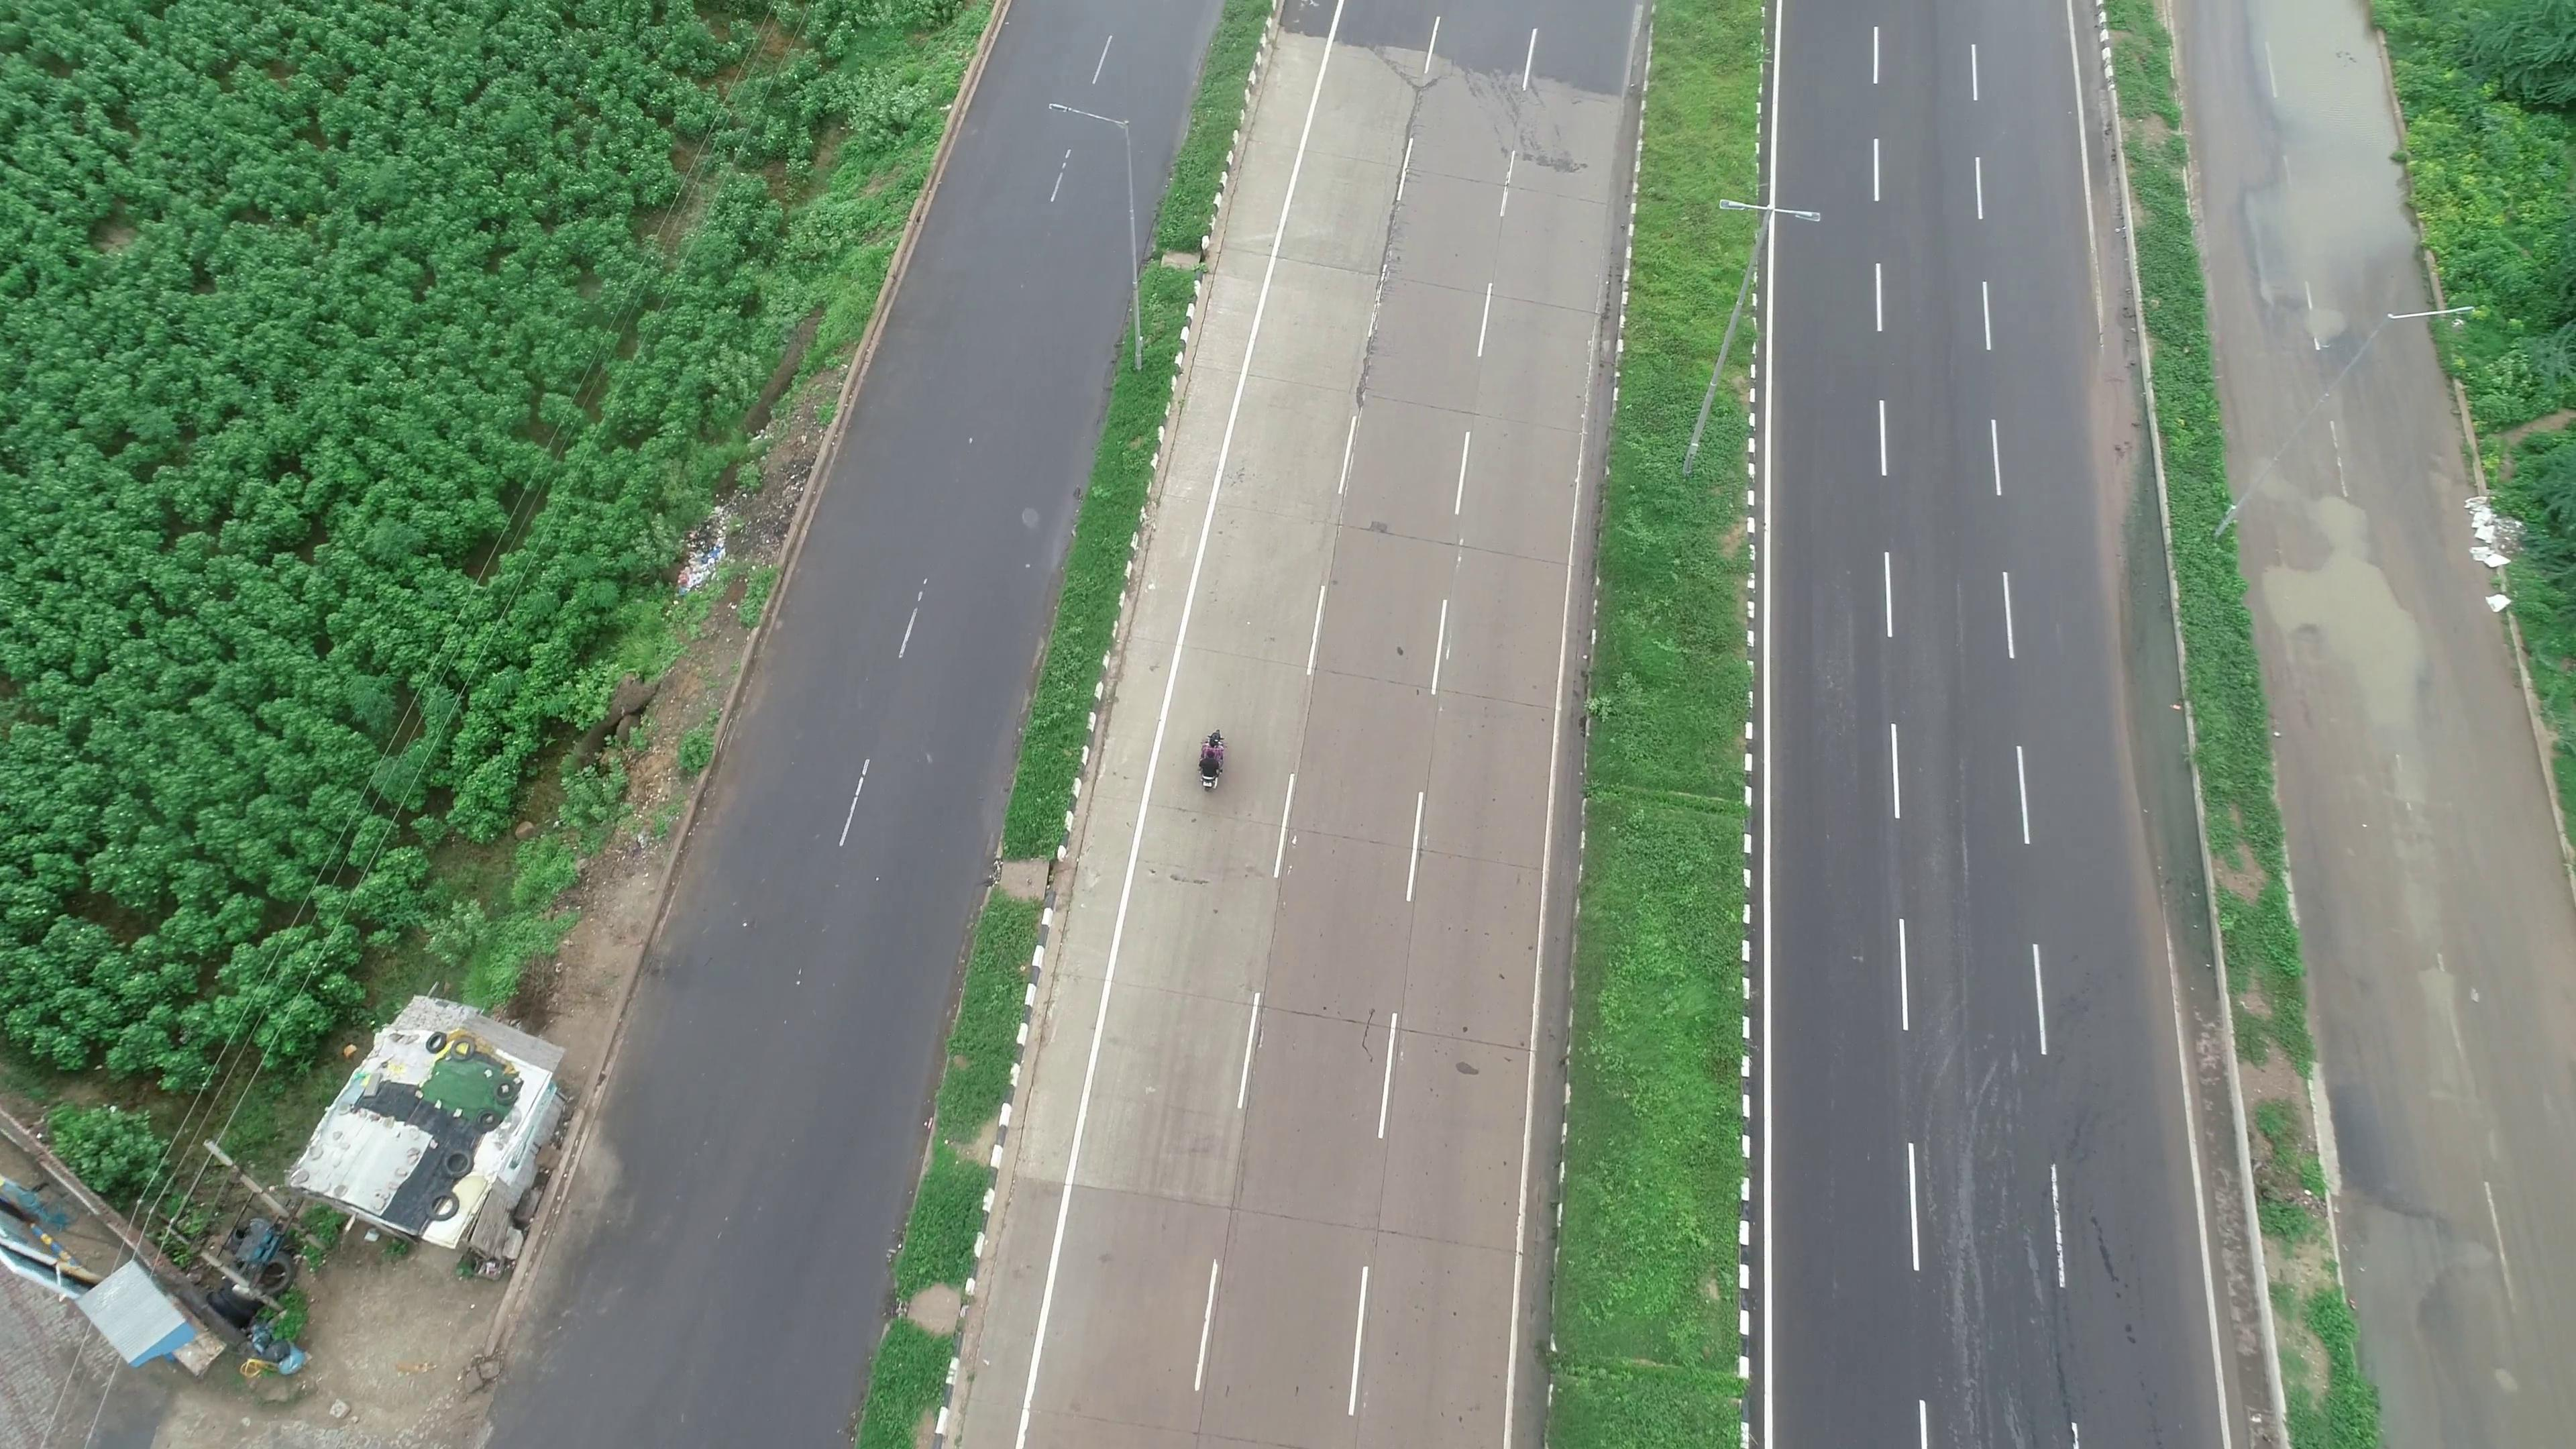Potholes: (1005, 474, 1049, 545)
Ravelling: (1946, 1054, 2029, 1433)
Waterlogging: (2247, 7, 2404, 299), (2279, 508, 2420, 738)
